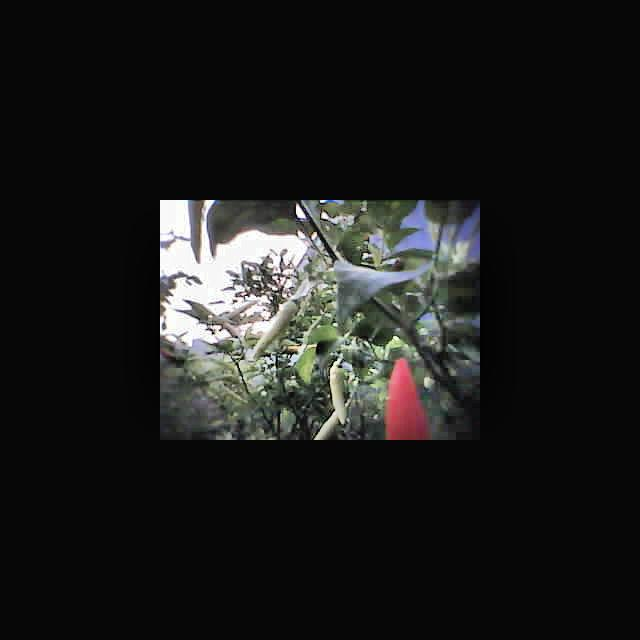Cabai: (386, 357, 437, 440)
